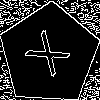X: (24, 29, 79, 84)
